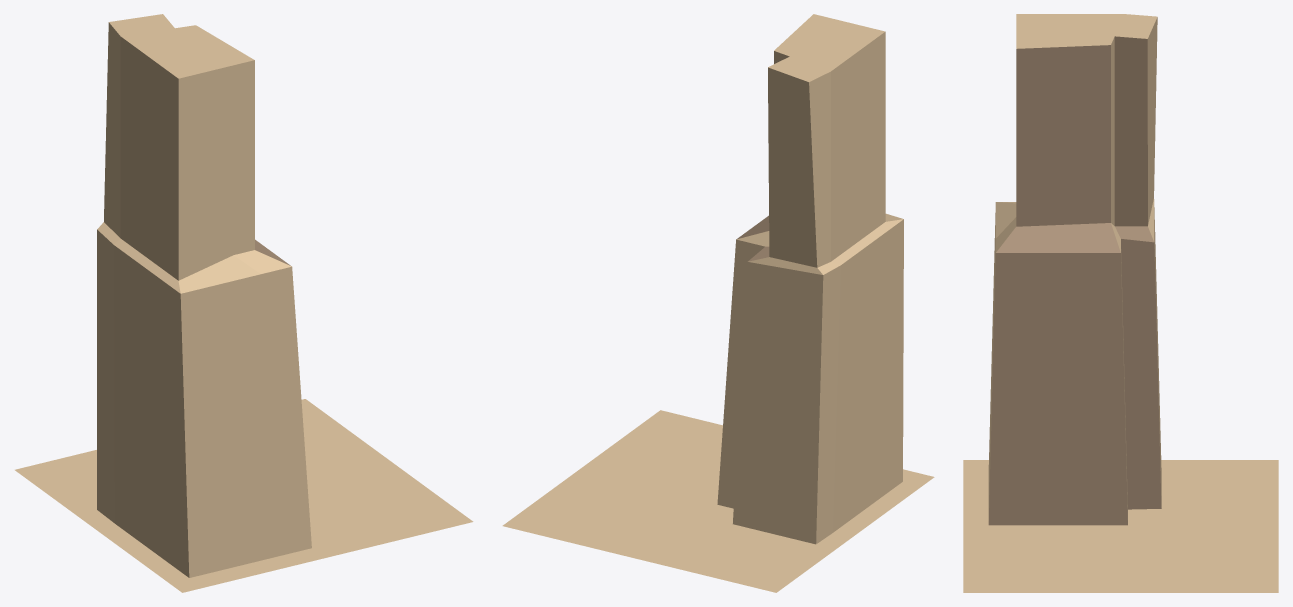
Rendered from FloorColumn.fbx.
3 views of the same model, side by side, from view 1: azimuth 30°, elevation 25°; view 2: azimuth 150°, elevation 25°; view 3: azimuth 270°, elevation 25° (orthographic). The views are drawn at different scales.
Visible parts, largest first — view 1: FloorColumn; view 2: FloorColumn; view 3: FloorColumn.
Part boxes in pixels (x1,y1,x2,y2): FloorColumn: [15, 14, 473, 592]; FloorColumn: [502, 14, 934, 592]; FloorColumn: [963, 14, 1278, 592].
Size of the model in its own units: 5 by 8 by 5.
